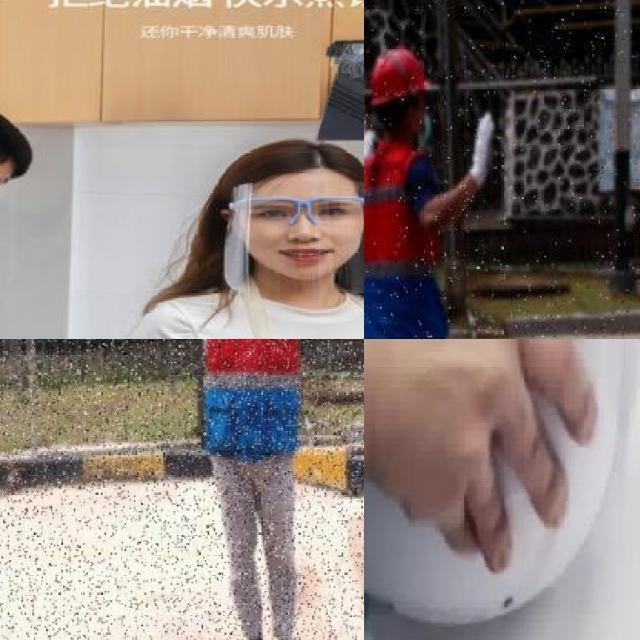apron: (464, 111, 496, 190), (364, 126, 377, 172)
